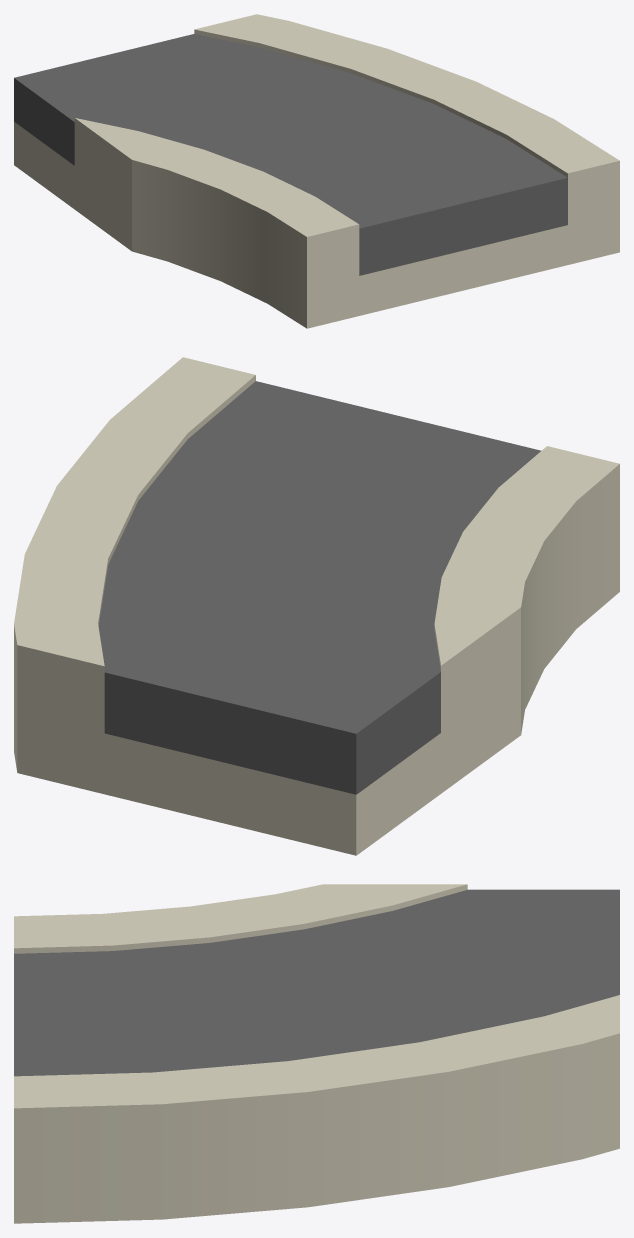
The model's file is tile215.fbx.
3 renders of one model, top to bottom at view 1: azimuth 30°, elevation 25°; view 2: azimuth 150°, elevation 25°; view 3: azimuth 270°, elevation 25°, orthographic. The views are drawn at different scales.
Parts seen in each view (by area): view 1: tile215; view 2: tile215; view 3: tile215.
Boxes of the visible parts, <box> form: tile215: <box>14,14,619,328</box>; tile215: <box>14,357,619,855</box>; tile215: <box>14,884,619,1223</box>.
Size of the model in its own units: 8.75 by 2.1 by 10.
